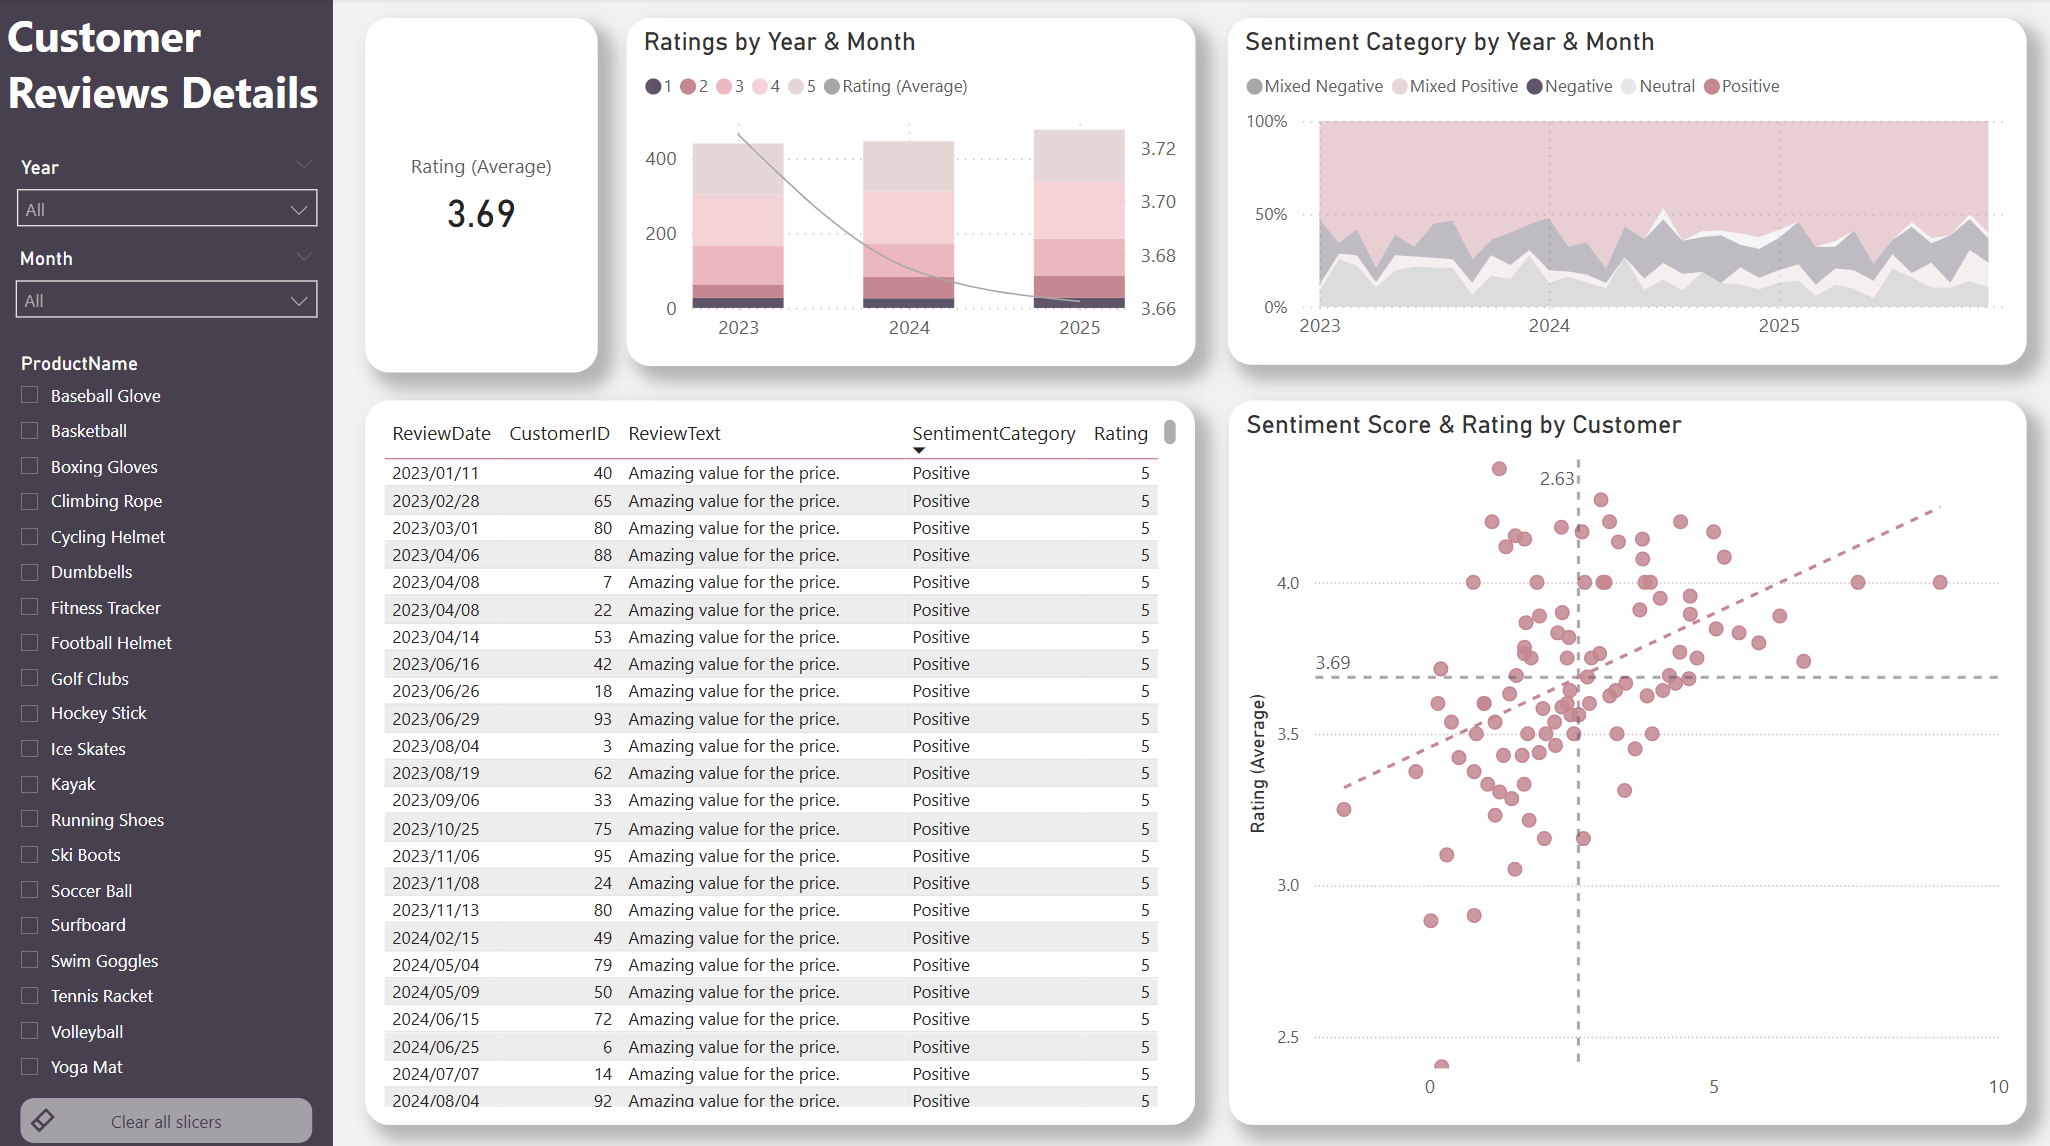

Layout of this report page (visuals, bound fields, positions):
{"tool":"powerbi","page":{"name":"Customer Reviews Details","canvas":[1280,720],"ordinal":3},"visuals":[{"type":"textbox","box":[0,0,208.3,720],"z":0},{"type":"slicer","fields":{"Values":["dim_products.ProductName"]},"box":[1,216,208,476],"z":1000},{"type":"slicer","fields":{"Values":["Calendar.Year"]},"box":[0.9,93.6,207.3,69.1],"z":2000},{"type":"slicer","fields":{"Values":["Calendar.MonthNameLong"]},"box":[0,150,208,66],"z":3000},{"type":"cardVisual","fields":{"Data":["_Calculations.Rating (Average)"]},"box":[228.3,12.5,145,220.8],"z":4000},{"type":"hundredPercentStackedAreaChart","title":"Sentiment Category by Year & Month","fields":{"Y":["_Calculations.Number of Customer Reviews"],"Series":["fact_customer_reviews_with_sentiment.SentimentCategory"],"Category":["Calendar.Date.Variation.Date Hierarchy.Year","Calendar.Date.Variation.Date Hierarchy.Month"]},"box":[765.1,12.7,497.6,215.9],"z":5000},{"type":"tableEx","fields":{"Values":["fact_customer_reviews_with_sentiment.ReviewDate","fact_customer_reviews_with_sentiment.CustomerID","fact_customer_reviews_with_sentiment.ReviewText","fact_customer_reviews_with_sentiment.SentimentCategory","fact_customer_reviews_with_sentiment.Rating"]},"box":[228.3,250.8,516.7,450.8],"z":6000},{"type":"scatterChart","title":"Sentiment Score & Rating by Customer","fields":{"Y":["_Calculations.Rating (Average)"],"X":["Sum(fact_customer_reviews_with_sentiment.SentimentScore)"],"Category":["fact_customer_reviews_with_sentiment.CustomerID"]},"box":[765.8,250.8,496.7,450.8],"z":7000},{"type":"lineStackedColumnComboChart","title":"Ratings by Year & Month","fields":{"Category":["Calendar.Date.Variation.Date Hierarchy.Year","Calendar.Date.Variation.Date Hierarchy.Month"],"Y2":["_Calculations.Rating (Average)"],"Y":["_Calculations.Number of Customer Reviews"],"Series":["fact_customer_reviews_with_sentiment.Rating"]},"box":[390.8,12.5,354.2,216.7],"z":8000},{"type":"actionButton","box":[13,685,182,28],"z":9000}]}

Visuals, with their boxes in screenshot pixels (x1, y1, x2, y2), scaled from the page's 1280x720 canvas onto the 2050x1146 screenshot:
textbox: bbox=[0, 0, 334, 1145]
slicer - dim_products.ProductName: bbox=[2, 344, 335, 1101]
slicer - Calendar.Year: bbox=[1, 149, 333, 259]
slicer - Calendar.MonthNameLong: bbox=[0, 239, 333, 344]
cardVisual - _Calculations.Rating (Average): bbox=[366, 20, 598, 371]
"Sentiment Category by Year & Month" hundredPercentStackedAreaChart: bbox=[1225, 20, 2022, 364]
tableEx - fact_customer_reviews_with_sentiment.ReviewDate x fact_customer_reviews_with_sentiment.CustomerID: bbox=[366, 399, 1193, 1117]
"Sentiment Score & Rating by Customer" scatterChart: bbox=[1226, 399, 2022, 1117]
"Ratings by Year & Month" lineStackedColumnComboChart: bbox=[626, 20, 1193, 365]
actionButton: bbox=[21, 1090, 312, 1135]
